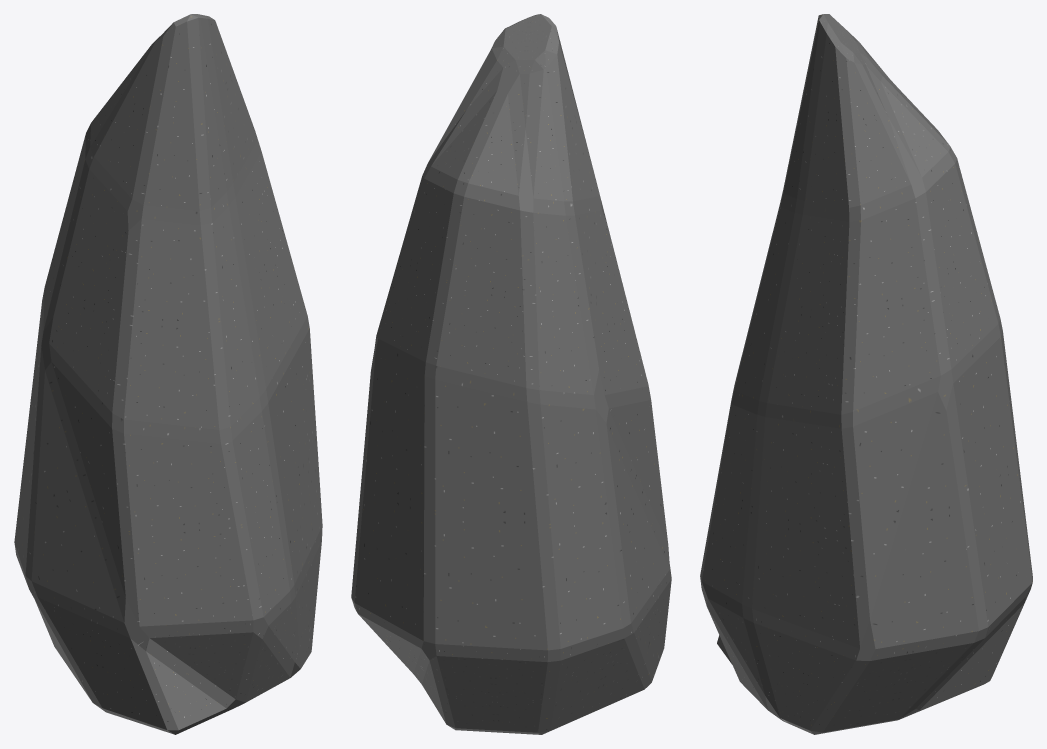
Rendered from rock2.fbx.
3 views of the same model, side by side, from view 1: azimuth 30°, elevation 25°; view 2: azimuth 150°, elevation 25°; view 3: azimuth 270°, elevation 25° (orthographic).
Parts seen in each view (by area): view 1: Cylinder; view 2: Cylinder; view 3: Cylinder.
Boxes of the visible parts, x1,y1,x2,y2 form: Cylinder: (14,14,322,734); Cylinder: (351,14,671,734); Cylinder: (700,14,1032,734).
Size of the model in its own units: 253 by 583 by 263.
